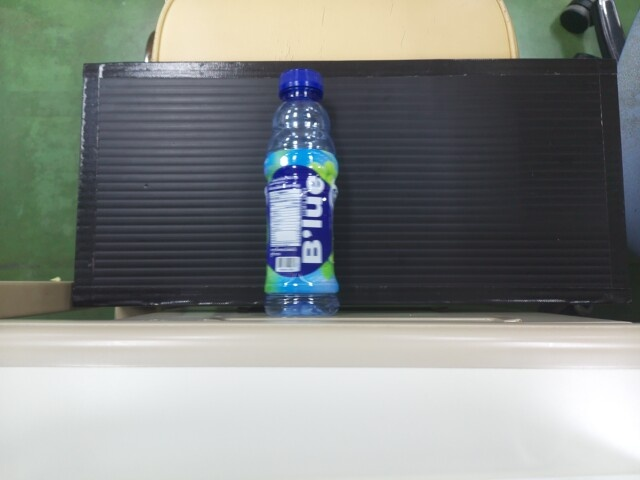plastic_bottle: (259, 57, 340, 311)
